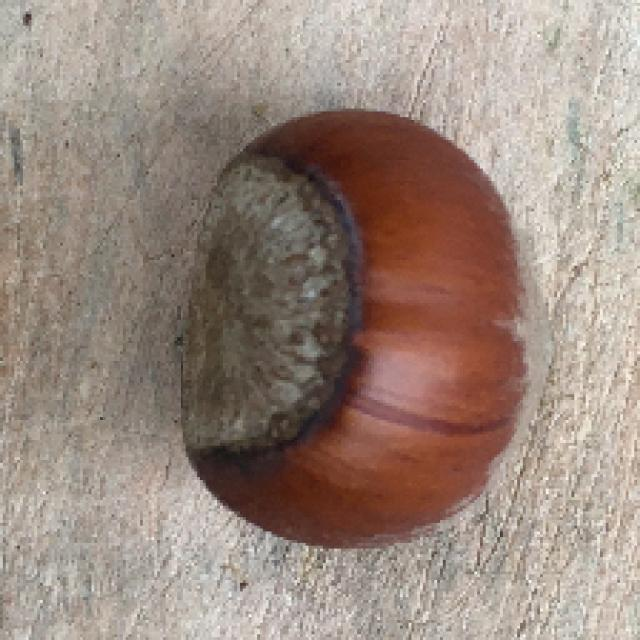QualityHazelnut: (183, 110, 563, 554)
